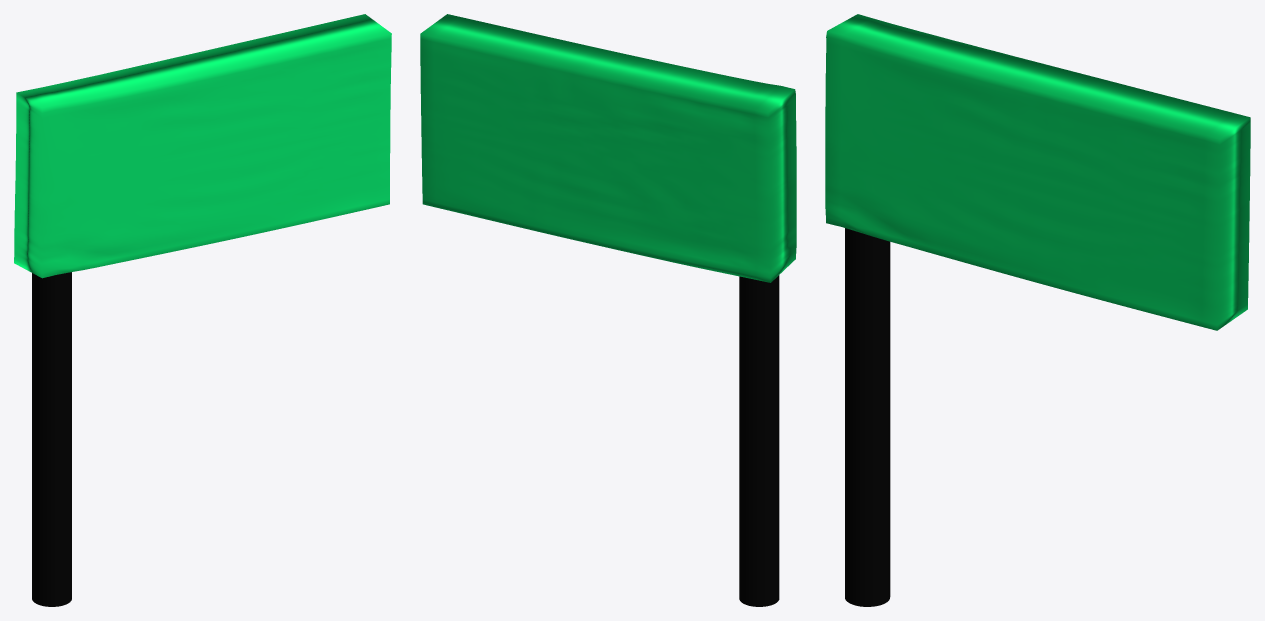
File: flag.fbx
3 views of the same model, side by side, from view 1: azimuth 30°, elevation 25°; view 2: azimuth 150°, elevation 25°; view 3: azimuth 330°, elevation 25° (orthographic). The views are drawn at different scales.
Parts seen in each view (by area): view 1: 立方体, 円柱.001; view 2: 立方体, 円柱.001; view 3: 立方体, 円柱.001.
Boxes of the visible parts, x1,y1,x2,y2 form: 立方体: (14, 14, 391, 278); 円柱.001: (32, 272, 71, 606); 立方体: (420, 14, 796, 282); 円柱.001: (739, 275, 779, 606); 立方体: (825, 14, 1250, 330); 円柱.001: (845, 228, 890, 606).
Size of the model in its own units: 151 by 208 by 21.35.
